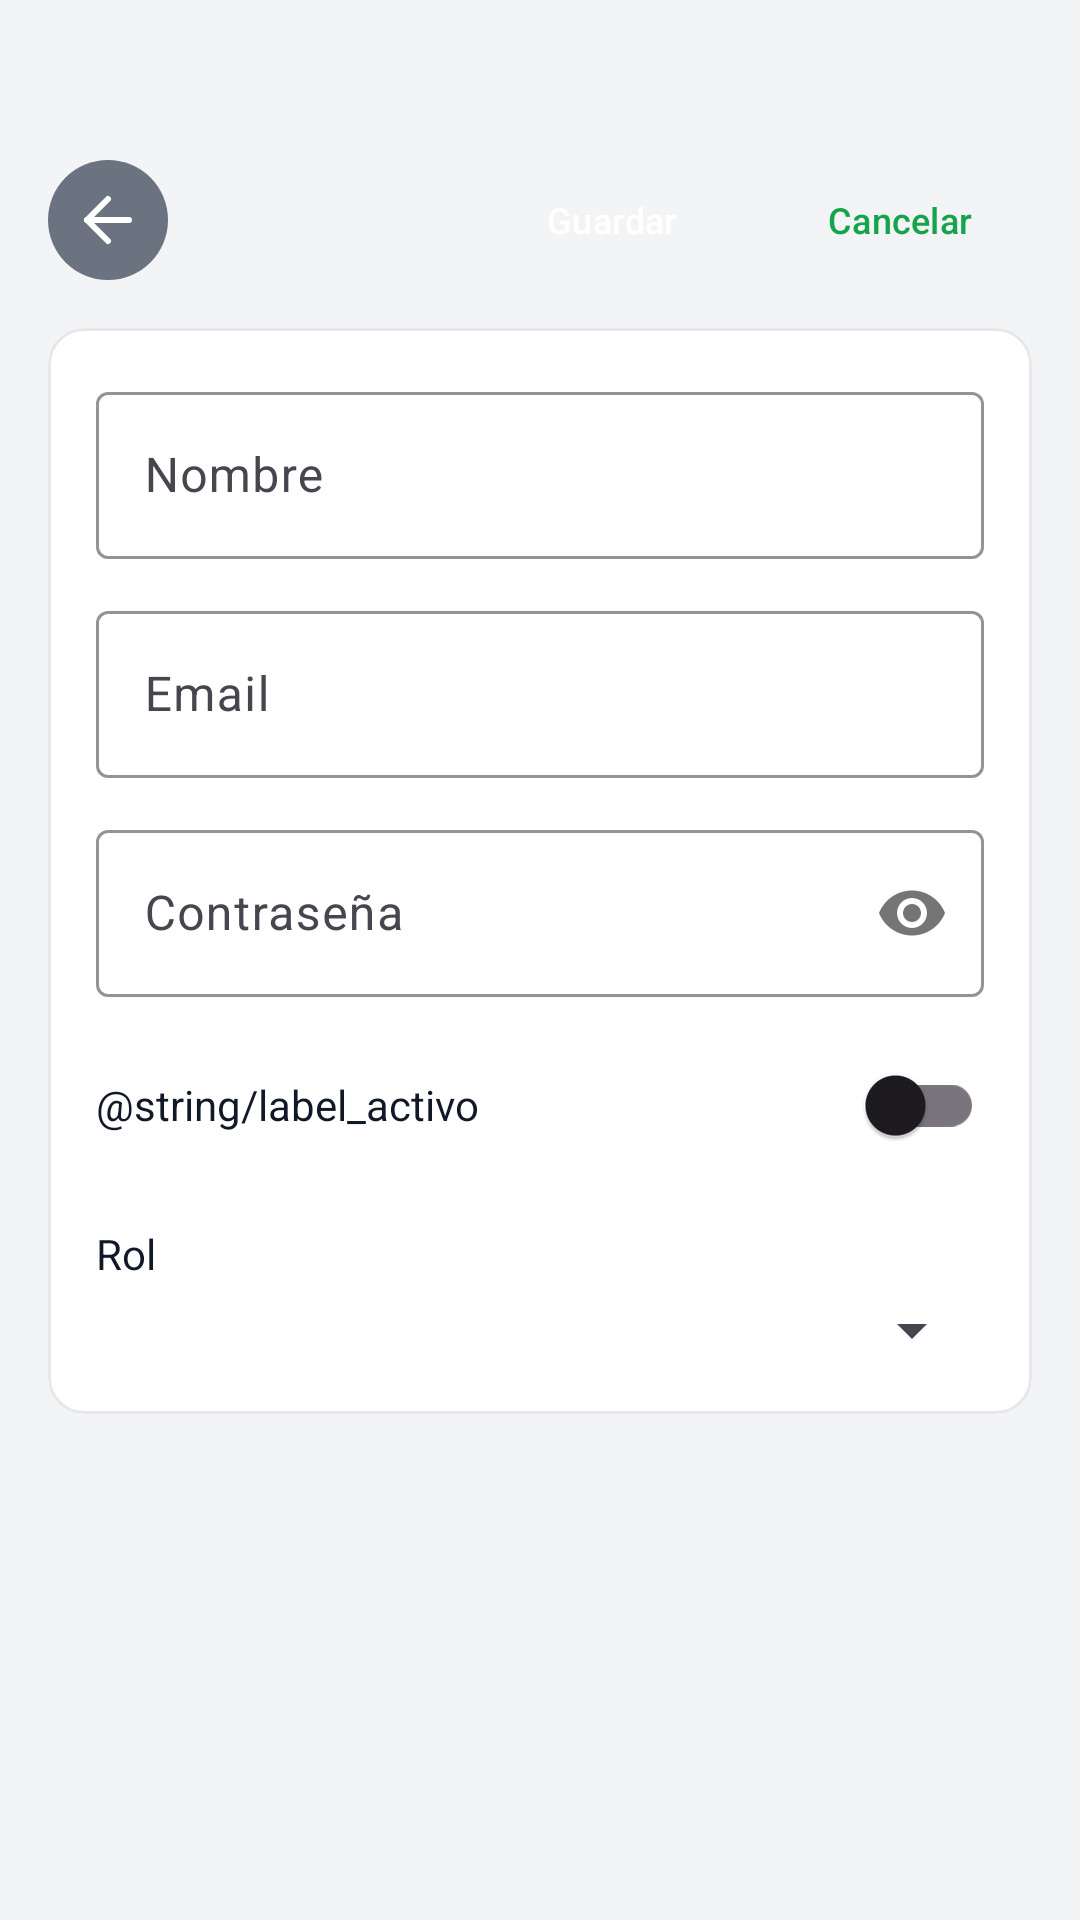

Point at icon controls on the screen. Image size 1080 x 1920, points as point (x, y).
Volver: point (108, 220)
